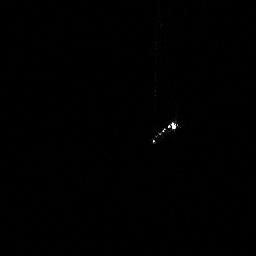ship: (151, 120, 180, 144)
